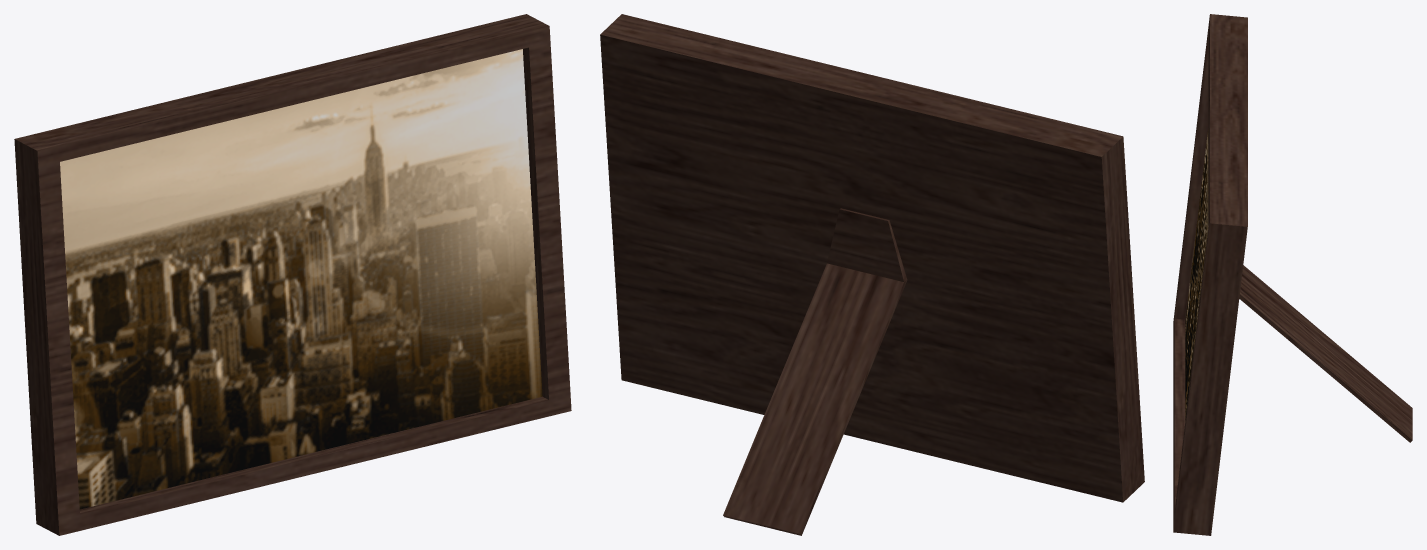
File: PhotoFrame_2.fbx
3 views of the same model, side by side, from view 1: azimuth 30°, elevation 25°; view 2: azimuth 150°, elevation 25°; view 3: azimuth 270°, elevation 25° (orthographic). The views are drawn at different scales.
Parts seen in each view (by area): view 1: PhotoFrame_2; view 2: PhotoFrame_2; view 3: PhotoFrame_2.
Boxes of the visible parts, <box> form: PhotoFrame_2: <box>14,14,571,535</box>; PhotoFrame_2: <box>600,14,1144,535</box>; PhotoFrame_2: <box>1173,14,1412,535</box>.
Size of the model in its own units: 13.01 by 9.06 by 6.28.
